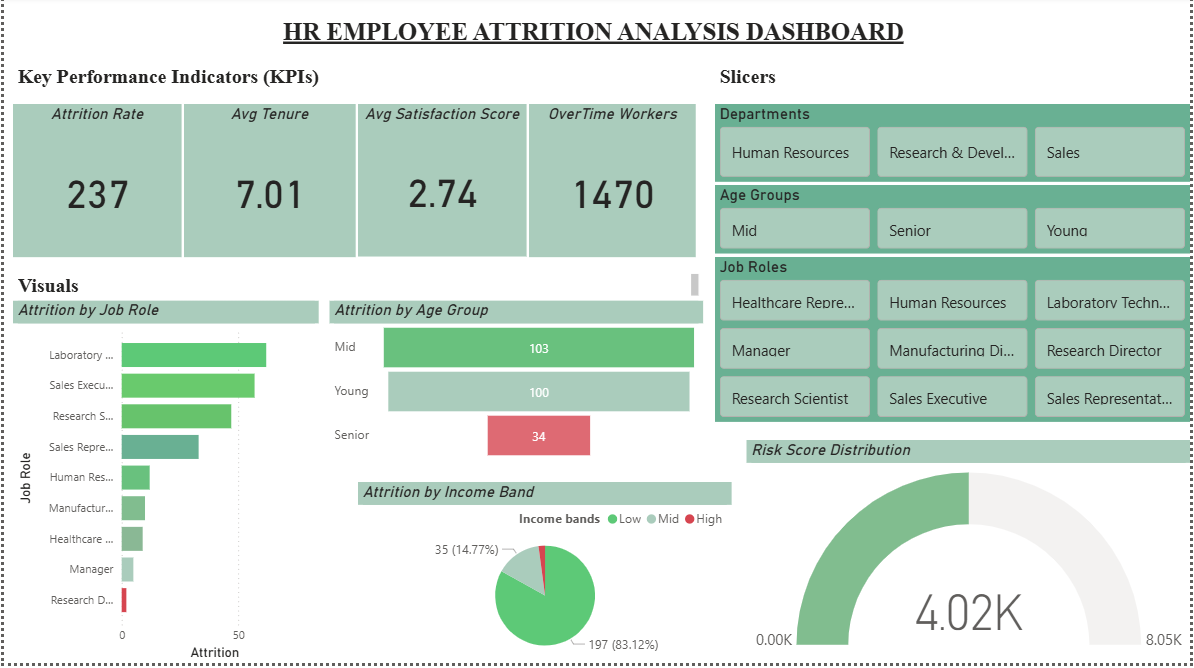

The page's visual inventory and layout, read from the dashboard file:
{"tool":"powerbi","page":{"name":"Page 5","canvas":[1280,720],"ordinal":4},"visuals":[{"type":"textbox","box":[9.4,17,1252.9,52.9],"z":0},{"type":"textbox","box":[9.4,69.9,599.1,43.5],"z":1000},{"type":"card","title":"Attrition Rate","fields":{"Values":["Sum(hr_cleaned.attrition)"]},"box":[9.7,116.6,182,165.2],"z":2000},{"type":"card","title":"Avg Tenure","fields":{"Values":["Avg(hr_cleaned.years_at_company)"]},"box":[194.3,116.6,185,165.2],"z":3000},{"type":"card","title":"Avg Satisfaction Score","fields":{"Values":["Avg(hr_cleaned.satisfaction_score)"]},"box":[381.7,117.2,182,164.4],"z":4000},{"type":"card","title":"OverTime Workers","fields":{"Values":["CountNonNull(hr_cleaned.overtime)"]},"box":[566.7,116.6,180,165.2],"z":5000},{"type":"advancedSlicerVisual","title":"Departments","fields":{"Values":["hr_cleaned.department"]},"box":[767.5,116.6,513.3,84],"z":6000},{"type":"advancedSlicerVisual","title":"Age Groups","fields":{"Values":["hr_cleaned.age_group"]},"box":[767.5,204,513.3,74],"z":7000},{"type":"advancedSlicerVisual","title":"Job Roles","fields":{"Values":["hr_cleaned.job_role"]},"box":[767.5,281.7,513.3,178.1],"z":8000},{"type":"textbox","box":[767.5,69.6,513.3,43.7],"z":9000},{"type":"gauge","title":"Risk Score Distribution","fields":{"Y":["Sum(hr_cleaned.satisfaction_score)"]},"box":[801.5,479.3,479.3,241.3],"z":10000},{"type":"barChart","title":"Attrition by Job Role","fields":{"Category":["hr_cleaned.job_role"],"Y":["Sum(hr_cleaned.attrition)"],"Series":["hr_cleaned.job_role"]},"box":[9.7,328.7,330.3,391.9],"z":11000},{"type":"funnel","title":"Attrition by Age Group","fields":{"Category":["hr_cleaned.age_group"],"Y":["Sum(hr_cleaned.attrition)"]},"box":[351.4,328.7,403.2,176.5],"z":12000},{"type":"pieChart","title":"Attrition by Income Band","fields":{"Y":["Sum(hr_cleaned.attrition)"],"Category":["hr_cleaned.income_band"]},"box":[382.1,524.6,403.2,195.9],"z":13000},{"type":"textbox","box":[9.7,294.7,744.8,34],"z":14000}]}

Visuals, with their boxes in screenshot pixels (x1, y1, x2, y2), scaled from the page's 1280x720 canvas onto the 1194x668 screenshot:
textbox: box=[9, 16, 1177, 65]
textbox: box=[9, 65, 568, 105]
"Attrition Rate" card: box=[9, 108, 179, 261]
"Avg Tenure" card: box=[181, 108, 354, 261]
"Avg Satisfaction Score" card: box=[356, 109, 526, 261]
"OverTime Workers" card: box=[529, 108, 697, 261]
"Departments" advancedSlicerVisual: box=[716, 108, 1193, 186]
"Age Groups" advancedSlicerVisual: box=[716, 189, 1193, 258]
"Job Roles" advancedSlicerVisual: box=[716, 261, 1193, 427]
textbox: box=[716, 65, 1193, 105]
"Risk Score Distribution" gauge: box=[748, 445, 1193, 667]
"Attrition by Job Role" barChart: box=[9, 305, 317, 667]
"Attrition by Age Group" funnel: box=[328, 305, 704, 469]
"Attrition by Income Band" pieChart: box=[356, 487, 733, 667]
textbox: box=[9, 273, 704, 305]
